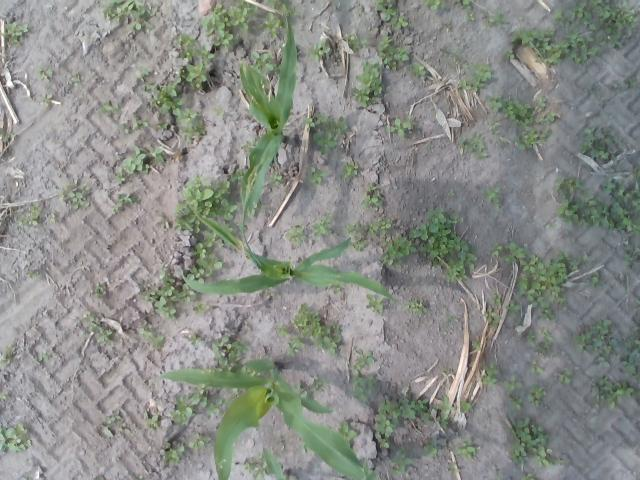Maize: (154, 354, 379, 480), (177, 206, 405, 304), (238, 3, 297, 269), (260, 442, 290, 480)
Weeds: (408, 206, 478, 282), (514, 252, 579, 318), (174, 172, 238, 234), (555, 192, 640, 234), (568, 0, 638, 47), (286, 300, 342, 358), (506, 416, 566, 468), (174, 31, 214, 90), (572, 318, 620, 366), (138, 269, 182, 319), (186, 230, 224, 286), (510, 27, 561, 66), (140, 77, 185, 118), (98, 0, 158, 30), (588, 374, 640, 408), (350, 59, 386, 108), (486, 94, 534, 128), (201, 3, 238, 47), (347, 349, 377, 402), (210, 335, 250, 371), (560, 28, 598, 65), (373, 397, 400, 448), (580, 127, 619, 162), (398, 386, 432, 426), (377, 35, 411, 70), (381, 236, 417, 269), (194, 382, 228, 416), (260, 0, 290, 38), (621, 325, 640, 383), (176, 106, 207, 141), (224, 0, 258, 31), (458, 63, 492, 94), (84, 311, 115, 344), (374, 0, 408, 30), (170, 393, 200, 426), (304, 111, 348, 133), (0, 422, 32, 452), (514, 126, 553, 150), (248, 48, 280, 77), (56, 183, 90, 209), (458, 130, 488, 158), (120, 146, 150, 174), (342, 220, 368, 252), (292, 373, 326, 397), (100, 410, 129, 438), (491, 241, 526, 263), (434, 396, 456, 430), (386, 114, 416, 138), (390, 449, 416, 475), (138, 323, 164, 349), (244, 455, 271, 480), (334, 420, 358, 448), (0, 22, 29, 44), (312, 131, 337, 155), (452, 438, 479, 460), (16, 203, 40, 227), (161, 441, 184, 466), (358, 184, 384, 206), (308, 38, 331, 62), (598, 176, 624, 197), (554, 176, 584, 194), (481, 361, 501, 388), (312, 212, 332, 238), (452, 0, 476, 21), (481, 186, 502, 210), (343, 32, 368, 52), (176, 281, 198, 303), (368, 216, 392, 236), (112, 193, 136, 213), (528, 384, 548, 407), (537, 328, 554, 355), (621, 242, 640, 266), (283, 224, 306, 243), (364, 293, 384, 314), (484, 10, 510, 26), (482, 306, 500, 328), (187, 433, 210, 450), (0, 346, 17, 369), (504, 374, 525, 392), (629, 164, 640, 198), (307, 166, 325, 186), (406, 299, 428, 315), (503, 300, 522, 318), (142, 409, 160, 428), (341, 160, 358, 179), (98, 100, 121, 114), (130, 112, 148, 129), (34, 67, 54, 82), (240, 138, 260, 153), (36, 92, 52, 110), (148, 146, 164, 164), (534, 112, 556, 125), (440, 46, 461, 59), (133, 64, 150, 80), (422, 441, 439, 457), (528, 358, 545, 374), (557, 368, 573, 384), (192, 301, 210, 315), (422, 0, 446, 10), (188, 333, 204, 348), (268, 171, 283, 186), (410, 63, 426, 77), (507, 396, 524, 409), (113, 167, 126, 184), (93, 282, 106, 298), (459, 397, 473, 411), (521, 328, 535, 342), (0, 126, 12, 142), (447, 463, 461, 476), (536, 94, 548, 109), (246, 367, 264, 377), (38, 348, 50, 362), (70, 74, 82, 88), (118, 122, 132, 134), (576, 253, 594, 262), (552, 8, 562, 24), (300, 438, 310, 454), (276, 324, 288, 337), (590, 270, 599, 286), (154, 120, 170, 129), (490, 293, 503, 304), (520, 472, 537, 480), (26, 268, 38, 278), (212, 107, 225, 116), (505, 49, 515, 59), (628, 78, 638, 88), (330, 283, 341, 292), (447, 188, 456, 197), (496, 138, 506, 146), (472, 341, 482, 349), (444, 314, 454, 322), (0, 392, 9, 400), (49, 212, 55, 224), (493, 470, 502, 478), (230, 387, 240, 394), (524, 189, 532, 196), (443, 368, 451, 375)
